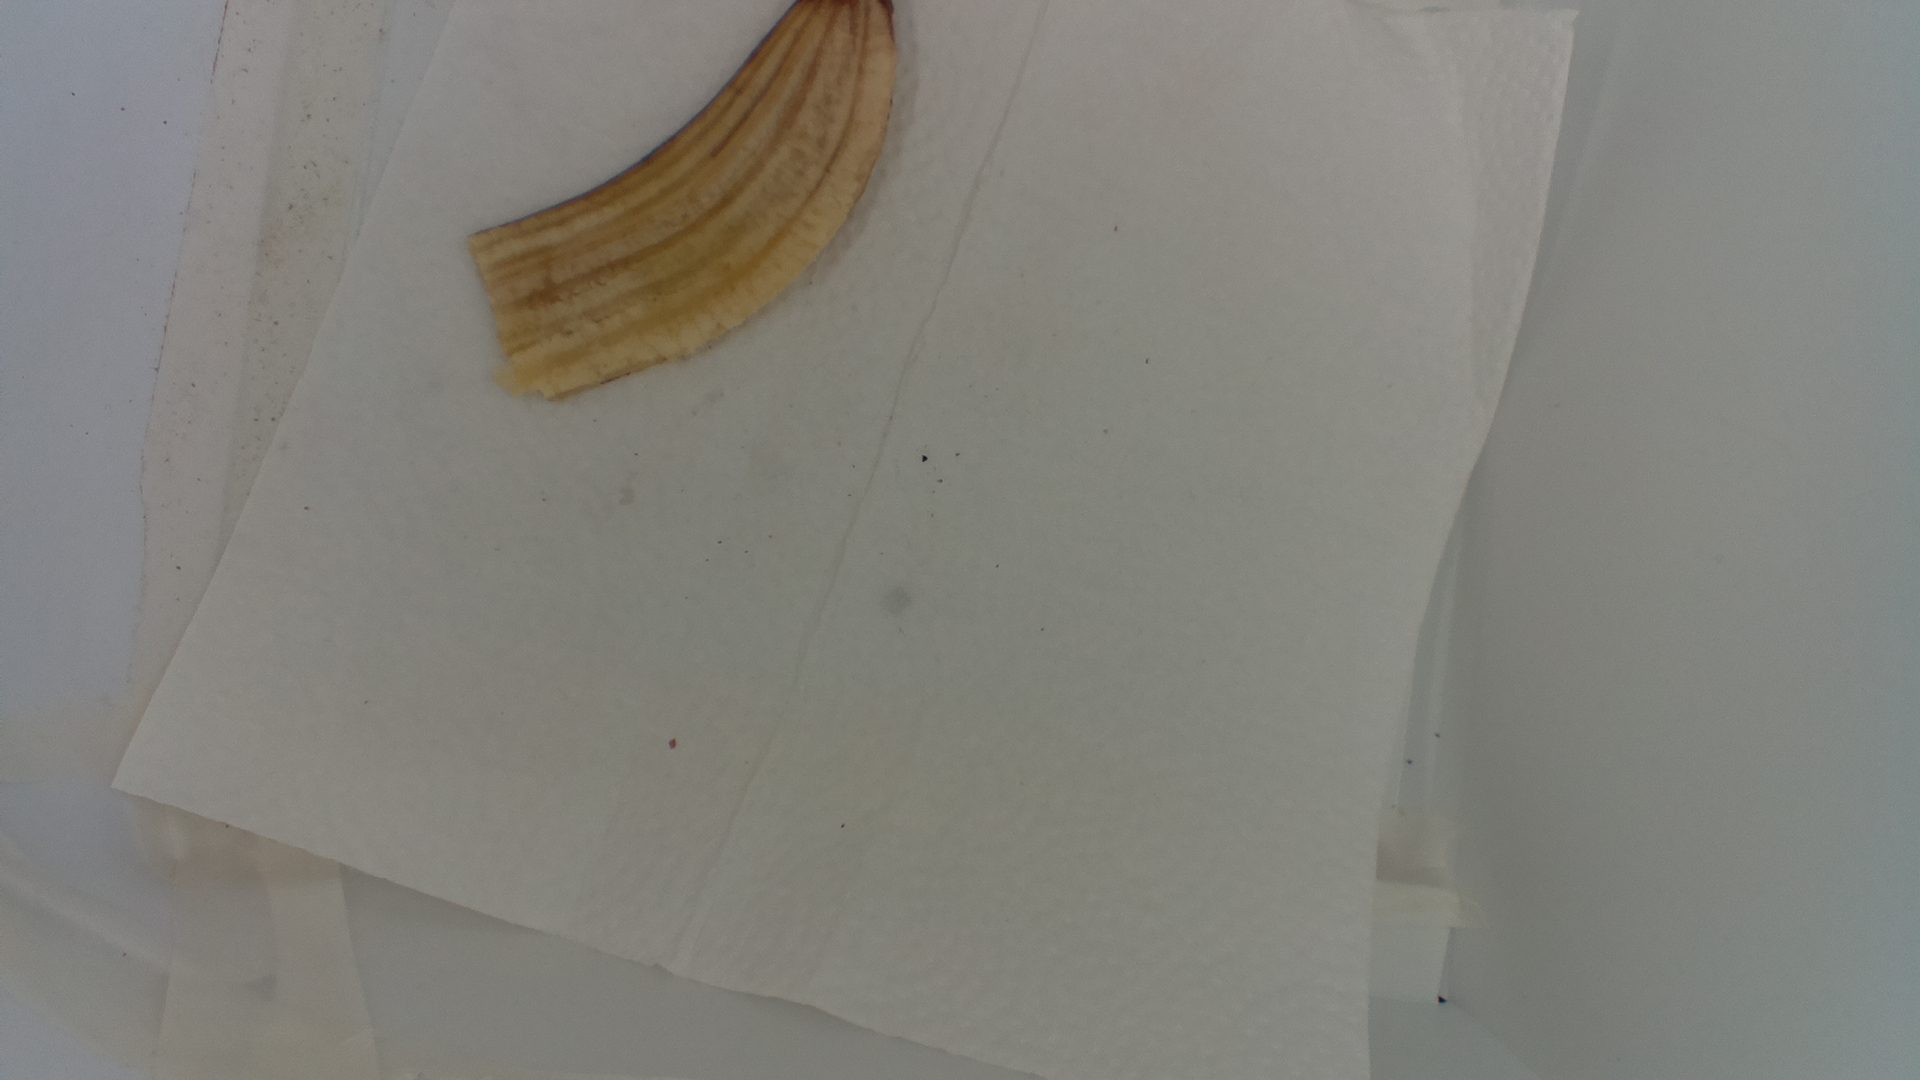fruit: (448, 3, 918, 407)
